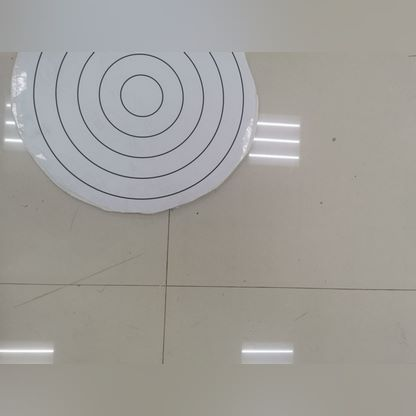circle: (14, 40, 253, 193)
